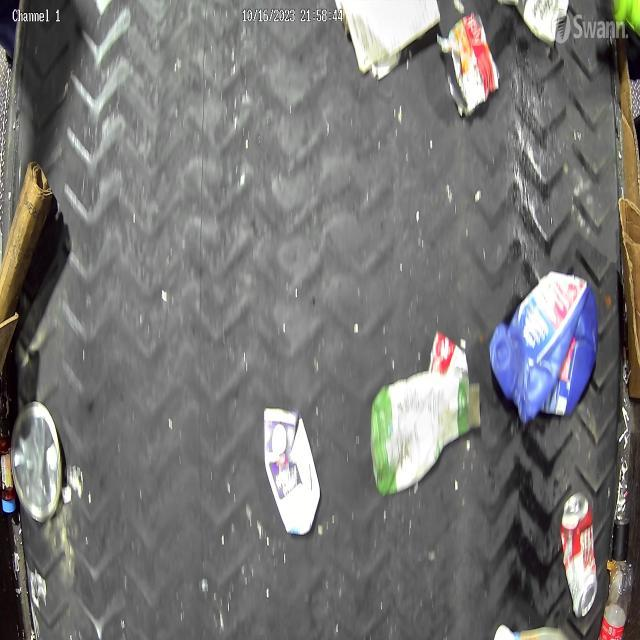can: (438, 10, 500, 120), (559, 490, 598, 620)
non_white_jug: (488, 269, 601, 427)
plastic_bottle: (596, 555, 634, 640)
